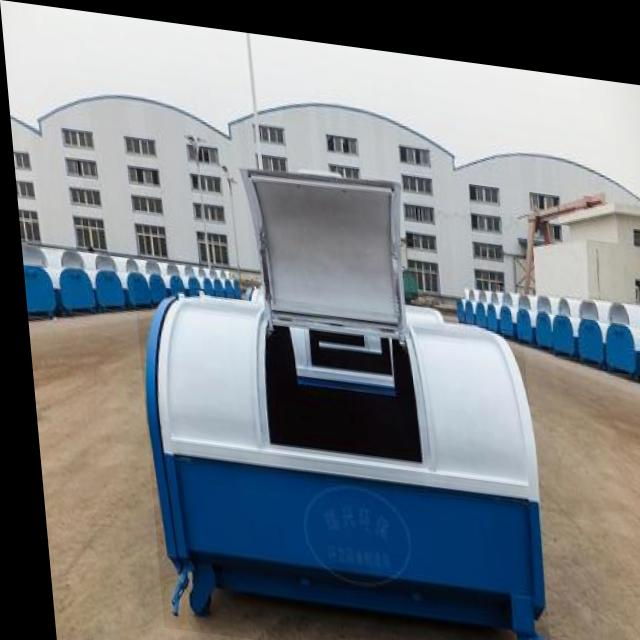garbage_bin: (129, 277, 542, 640)
